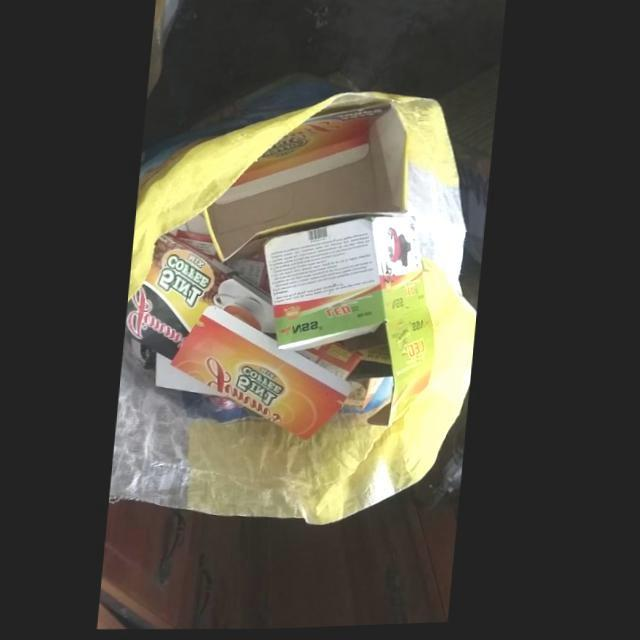cardboard: (265, 216, 438, 428), (173, 282, 369, 445), (224, 101, 413, 262), (129, 235, 235, 360)
